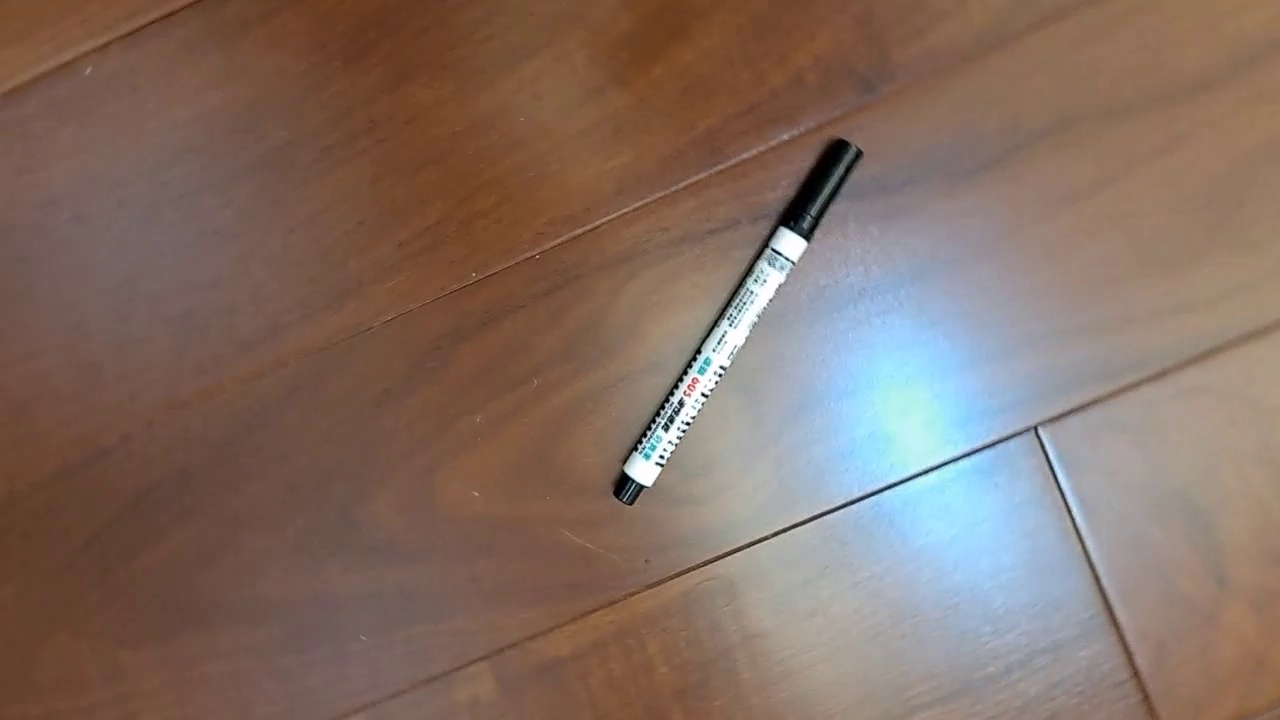pen: (612, 135, 865, 507)
